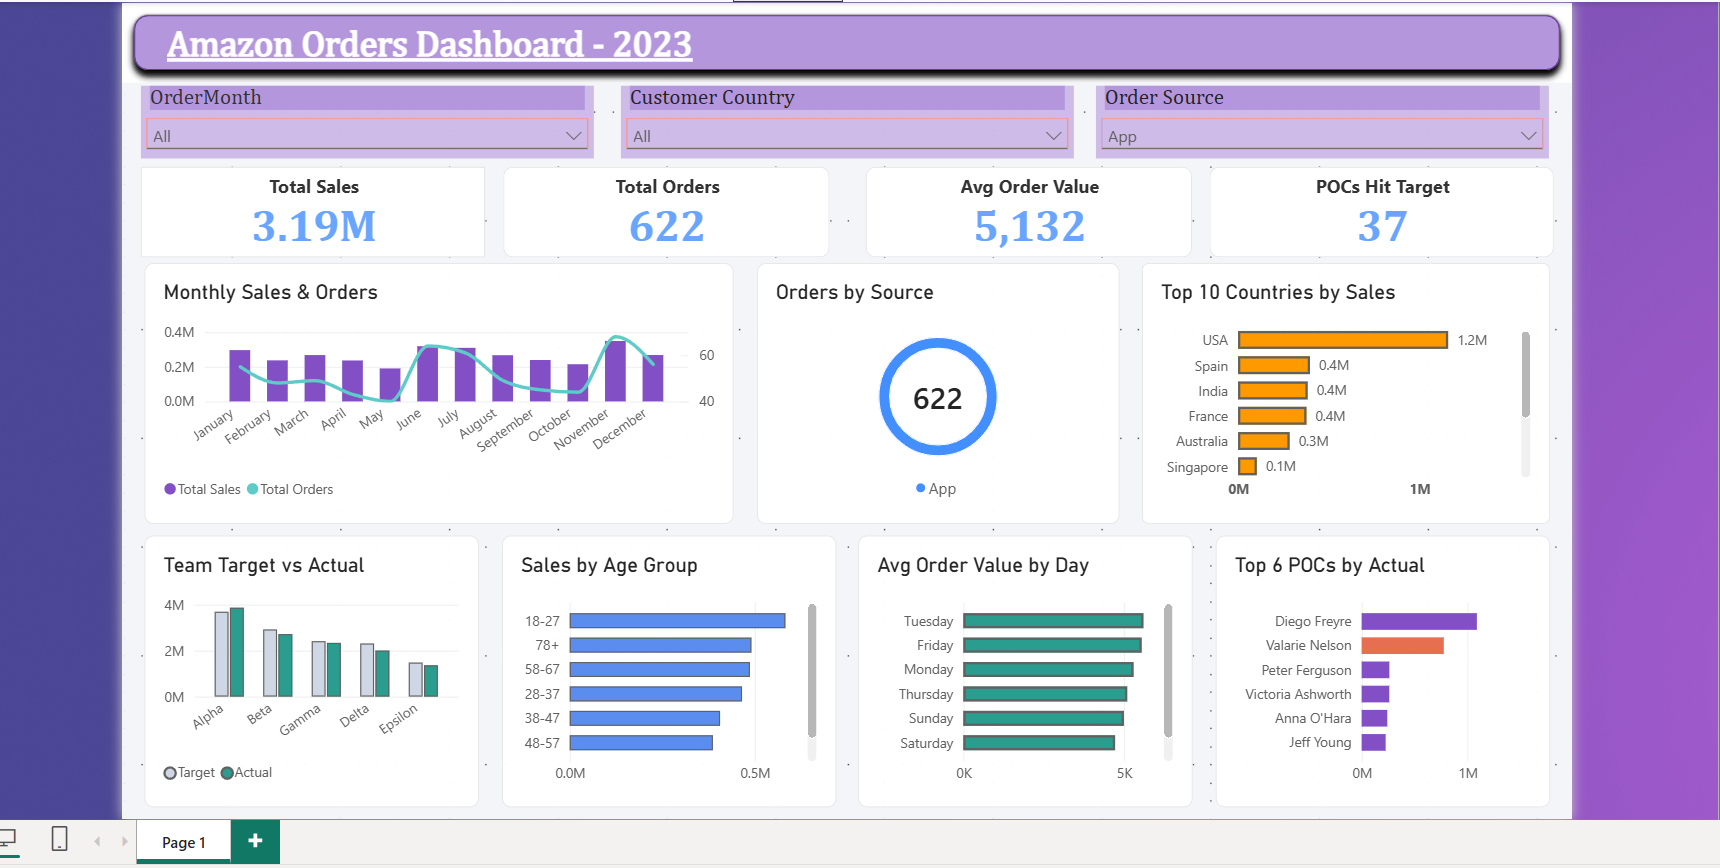

The dashboard page shown, as its layout file describes it:
{"tool":"powerbi","page":{"name":"Page 1","canvas":[1280,720],"ordinal":0},"visuals":[{"type":"cardVisual","fields":{"Data":["Orders.Total Sales"]},"box":[16,144,304,80],"z":0},{"type":"cardVisual","fields":{"Data":["Orders.Total Orders"]},"box":[336,144,288,80],"z":1000},{"type":"cardVisual","fields":{"Data":["Orders.Avg Order Value"]},"box":[656,144,288,80],"z":2000},{"type":"cardVisual","fields":{"Data":["Sales Targets.POCs Hit Target"]},"box":[960,144,304,80],"z":3000},{"type":"lineClusteredColumnComboChart","title":"Monthly Sales & Orders","fields":{"Category":["Orders.OrderMonth"],"Y":["Orders.Total Sales"],"Y2":["Orders.Total Orders"]},"box":[20,230,520,230],"z":4000},{"type":"donutChart","title":"Orders by Source","fields":{"Category":["Orders.Order Source"],"Y":["Orders.Total Orders"]},"box":[560,230,320,230],"z":5000},{"type":"clusteredBarChart","title":"Top 10 Countries by Sales","fields":{"Category":["Orders.Customer Country"],"Y":["Orders.Total Sales"]},"box":[900,230,360,230],"z":6000},{"type":"clusteredColumnChart","title":"Team Target vs Actual","fields":{"Category":["Sales Targets.Sales Team"],"Y":["Sales Targets.Target","Sales Targets.Actual"]},"box":[20,470,295,240],"z":7000},{"type":"clusteredBarChart","title":"Sales by Age Group","fields":{"Category":["Orders.Age Group"],"Y":["Orders.Total Sales"]},"box":[335,470,295,240],"z":8000},{"type":"clusteredBarChart","title":"Avg Order Value by Day","fields":{"Category":["Orders.OrderDay"],"Y":["Orders.Avg Order Value"]},"box":[650,470,295,240],"z":9000},{"type":"clusteredBarChart","title":"Top 6 POCs by Actual","fields":{"Category":["Sales Targets.Sales POC"],"Y":["Sales Targets.Actual"]},"box":[965,470,295,240],"z":10000},{"type":"slicer","fields":{"Values":["Orders.OrderMonth"]},"box":[16,73,400,64],"z":11000},{"type":"slicer","fields":{"Values":["Orders.Customer Country"]},"box":[440,73,400,64],"z":12000},{"type":"slicer","fields":{"Values":["Orders.Order Source"]},"box":[860,73,400,64],"z":13000},{"type":"shape","box":[0,0,1280,70],"z":15001},{"type":"textbox","box":[40,20,700,40],"z":15501}]}

Visuals, with their boxes on the page's 1280x720 design canvas (x1, y1, x2, y2). These are canvas units, not pixel positions in the 1720x868 screenshot, which may show the page scaled, cropped or inside an application window:
cardVisual - Orders.Total Sales: 16, 144, 320, 224
cardVisual - Orders.Total Orders: 336, 144, 624, 224
cardVisual - Orders.Avg Order Value: 656, 144, 944, 224
cardVisual - Sales Targets.POCs Hit Target: 960, 144, 1264, 224
"Monthly Sales & Orders" lineClusteredColumnComboChart: 20, 230, 540, 460
"Orders by Source" donutChart: 560, 230, 880, 460
"Top 10 Countries by Sales" clusteredBarChart: 900, 230, 1260, 460
"Team Target vs Actual" clusteredColumnChart: 20, 470, 315, 710
"Sales by Age Group" clusteredBarChart: 335, 470, 630, 710
"Avg Order Value by Day" clusteredBarChart: 650, 470, 945, 710
"Top 6 POCs by Actual" clusteredBarChart: 965, 470, 1260, 710
slicer - Orders.OrderMonth: 16, 73, 416, 137
slicer - Orders.Customer Country: 440, 73, 840, 137
slicer - Orders.Order Source: 860, 73, 1260, 137
shape: 0, 0, 1280, 70
textbox: 40, 20, 740, 60
